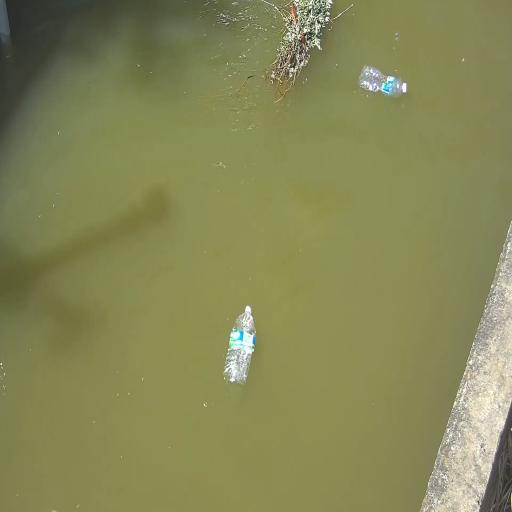plastic: (223, 306, 256, 388), (358, 63, 407, 101)
twig: (254, 0, 354, 105)
